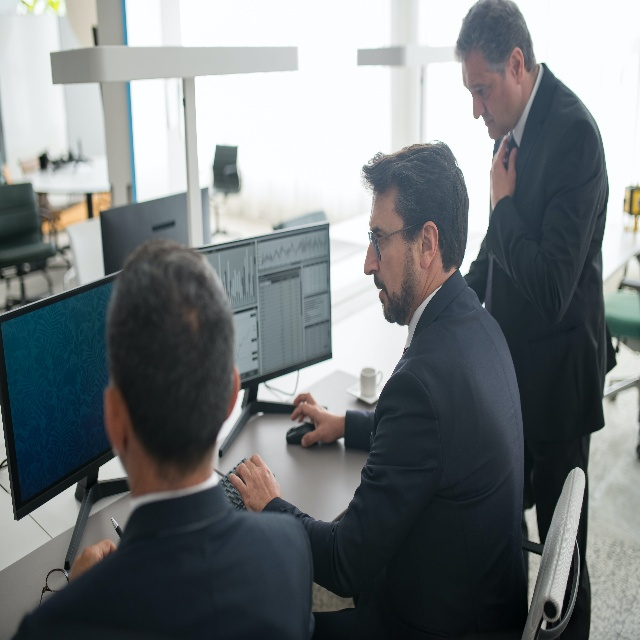Gafas: (367, 221, 425, 261), (37, 567, 69, 607)
Sin_guantes: (229, 453, 281, 514), (290, 392, 345, 448), (486, 137, 518, 212), (69, 540, 119, 583)
